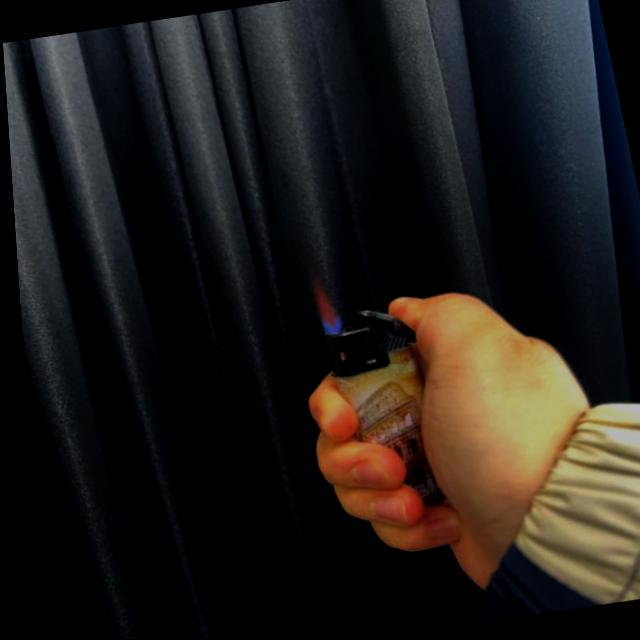helmet: (301, 272, 339, 336)
